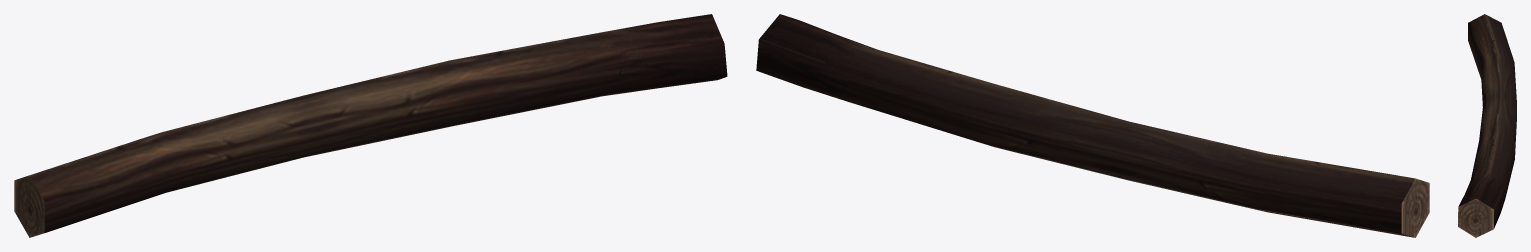
The model's file is 6002_Item_muzhuzi03.FBX.
3 renders of one model, left to right at view 1: azimuth 30°, elevation 25°; view 2: azimuth 150°, elevation 25°; view 3: azimuth 270°, elevation 25°, orthographic. The views are drawn at different scales.
Visible parts, largest first — view 1: 6002_Item_muzhuzi03; view 2: 6002_Item_muzhuzi03; view 3: 6002_Item_muzhuzi03.
Boxes of the visible parts, x1=… form: 6002_Item_muzhuzi03: x1=14, y1=14, x2=727, y2=237; 6002_Item_muzhuzi03: x1=756, y1=14, x2=1429, y2=237; 6002_Item_muzhuzi03: x1=1458, y1=14, x2=1516, y2=237.
Size of the model in its own units: 326 by 30.61 by 43.03.
